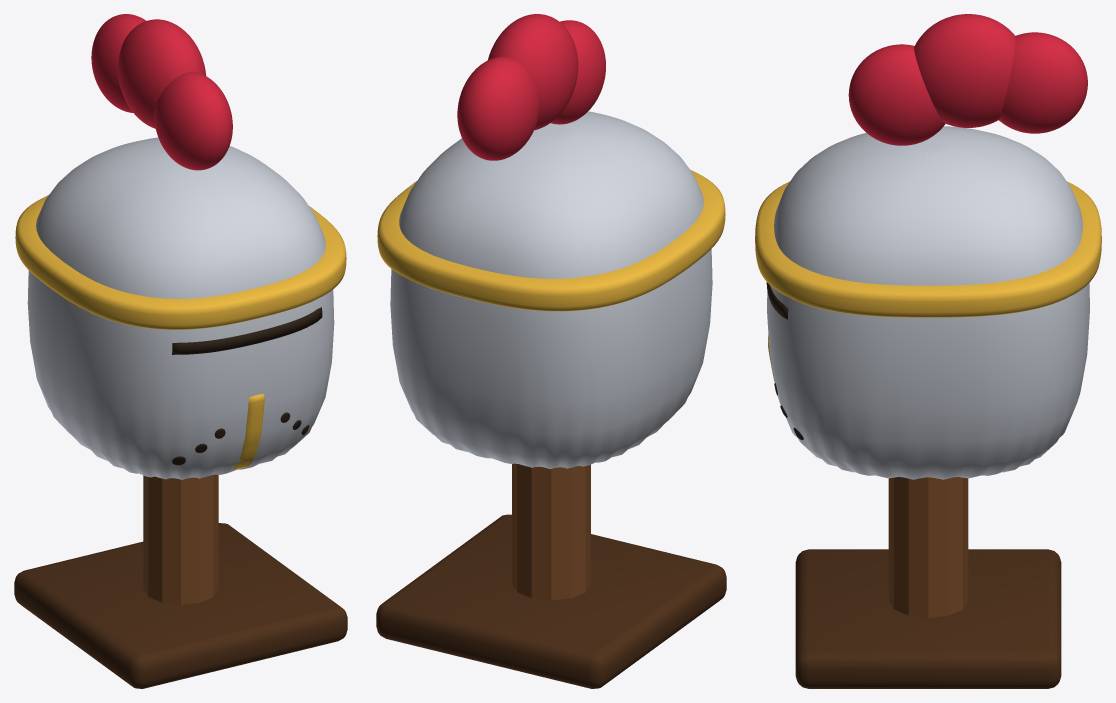
File: yelmo.glb
The picture shows the model from 3 angles, left to right: view 1: azimuth 30°, elevation 25°; view 2: azimuth 150°, elevation 25°; view 3: azimuth 270°, elevation 25°; orthographic projection. The views are drawn at different scales.
Parts seen in each view (by area): view 1: yelmo, base, franja, soporte, penacho0, penacho1, penacho2, rendija, cruz; view 2: yelmo, base, franja, soporte, penacho2, penacho1, penacho0; view 3: yelmo, base, franja, soporte, penacho1, penacho0, penacho2.
Boxes of the visible parts, x1,y1,x2,y2 form: yelmo: (27,137,334,479); base: (14,523,347,688); franja: (15,195,346,329); soporte: (143,474,218,604); penacho0: (154,71,232,170); penacho1: (118,19,206,128); penacho2: (91,14,146,112); rendija: (172,307,322,354); cruz: (232,393,264,469); yelmo: (390,111,712,468); base: (376,514,726,688); franja: (377,170,725,311); soporte: (512,463,590,600); penacho2: (457,56,539,160); penacho1: (488,14,578,130); penacho0: (551,20,605,124); yelmo: (767,126,1089,479); base: (795,549,1061,688); franja: (755,181,1101,317); soporte: (888,477,968,617); penacho1: (914,14,1015,127); penacho0: (848,44,945,145); penacho2: (999,32,1087,133).
Bounding box in the file's own units: 0.2411 × 0.515 × 0.261.
